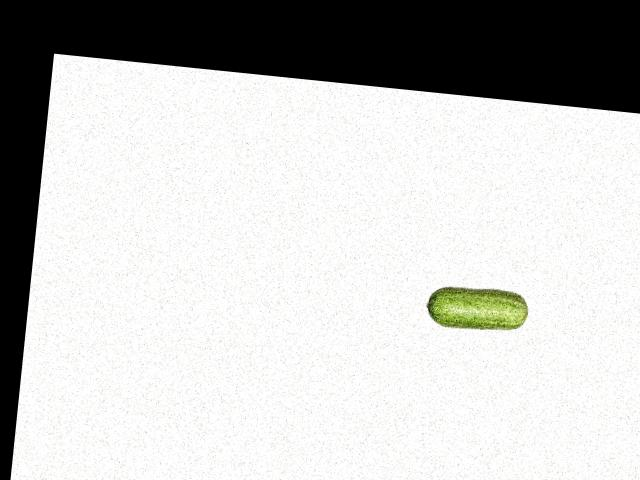cucumber: (424, 283, 529, 334)
